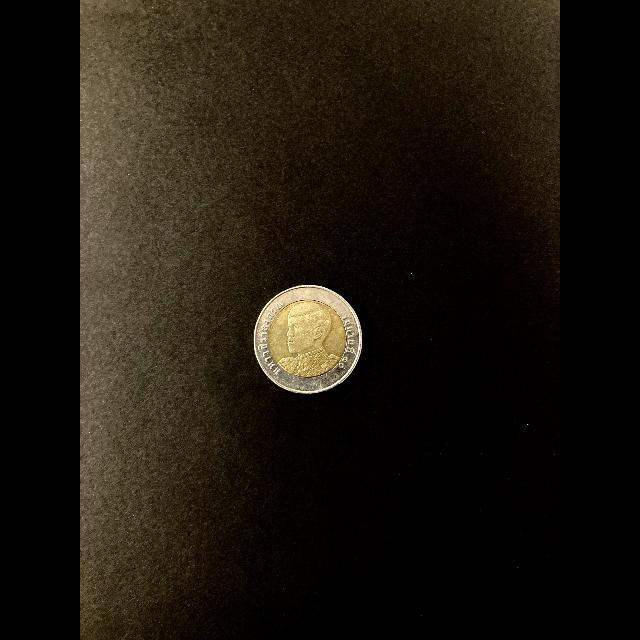10 Bath: (250, 282, 367, 397)
